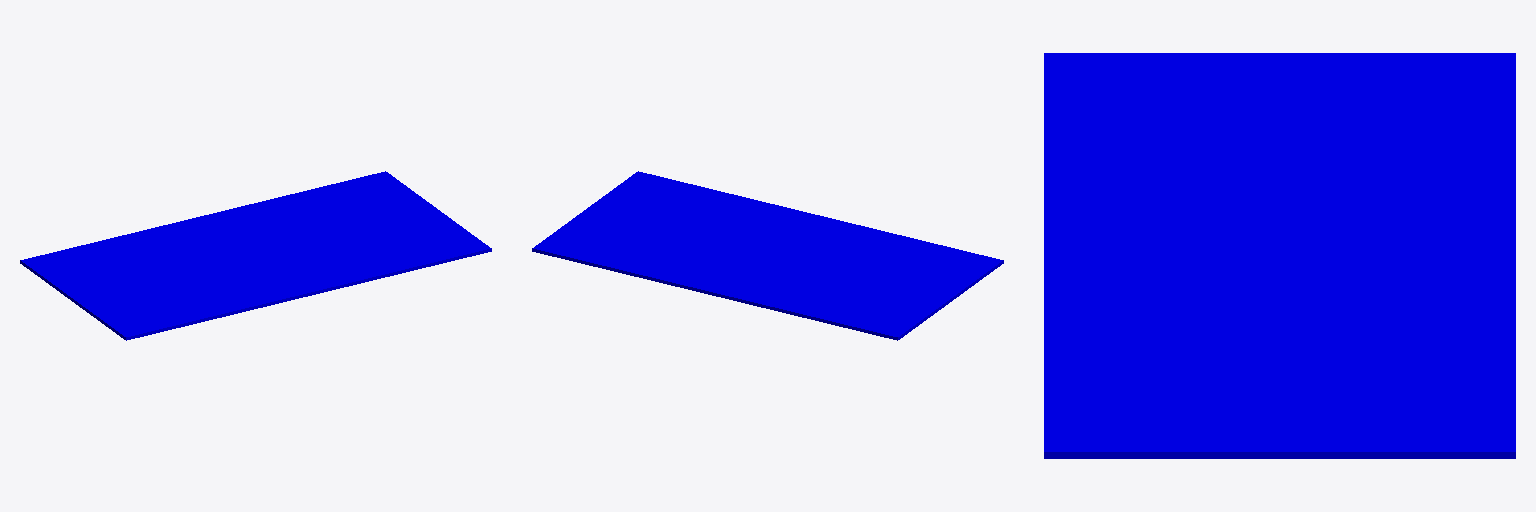
robot.urdf — goal_zone:
<?xml version="1.0" ?>
<robot name="goal_zone">
  <link name="base">
    <visual>
      <origin xyz="0 0 0" rpy="0 0 0"/>
      <geometry>
        <box size="0.12 0.06 0.001"/>
      </geometry>
      <material name="goal_color">
        <color rgba="0 0 1 0.4"/> <!-- green + transparent -->
      </material>
    </visual>
    <collision>
      <origin xyz="0 0 0" rpy="0 0 0"/>
      <geometry>
        <box size="0 0 0"/>
      </geometry>
    </collision>
    <inertial>
      <mass value="0.001"/>
      <inertia ixx="1e-5" iyy="1e-5" izz="1e-5"/>
    </inertial>
  </link>
</robot>

--- Facts derived from the render (not from the file) ---
Views: 3 orthographic renders of the robot side by side, from view 1: azimuth 30°, elevation 25°; view 2: azimuth 150°, elevation 25°; view 3: azimuth 270°, elevation 25°.
Robot: goal_zone — 1 links, 0 joints (none); root link base; default pose: all joints at 0.
Visible links, largest first — view 1: base; view 2: base; view 3: base.
Link boxes in pixels (x1=…): base: x1=20, y1=171, x2=491, y2=340; base: x1=532, y1=171, x2=1003, y2=340; base: x1=1044, y1=53, x2=1515, y2=458.
Size in the robot's own frame: 0.12 by 0.06 by 0.001 metres.
Geometry: primitives only (box / cylinder / sphere), no mesh files.